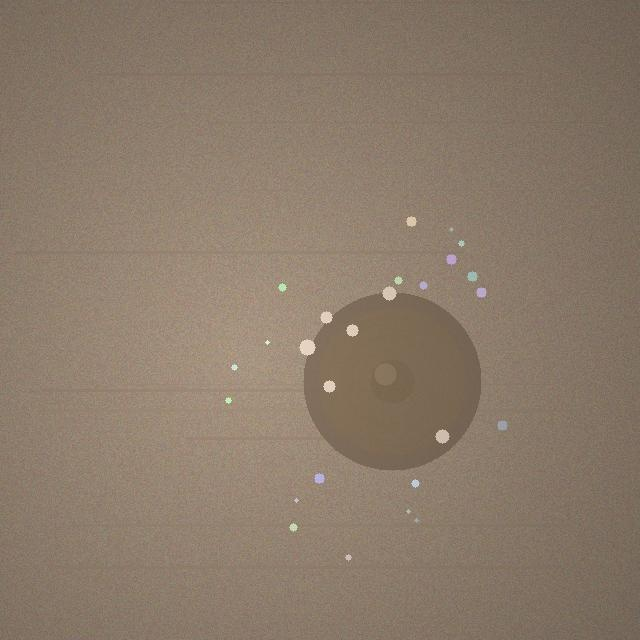overburn: (303, 292, 481, 470)
